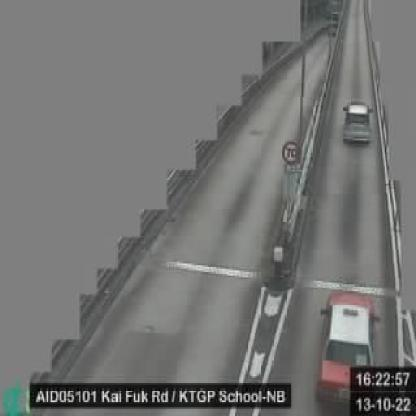Car: (316, 286, 380, 412), (342, 98, 372, 146)
